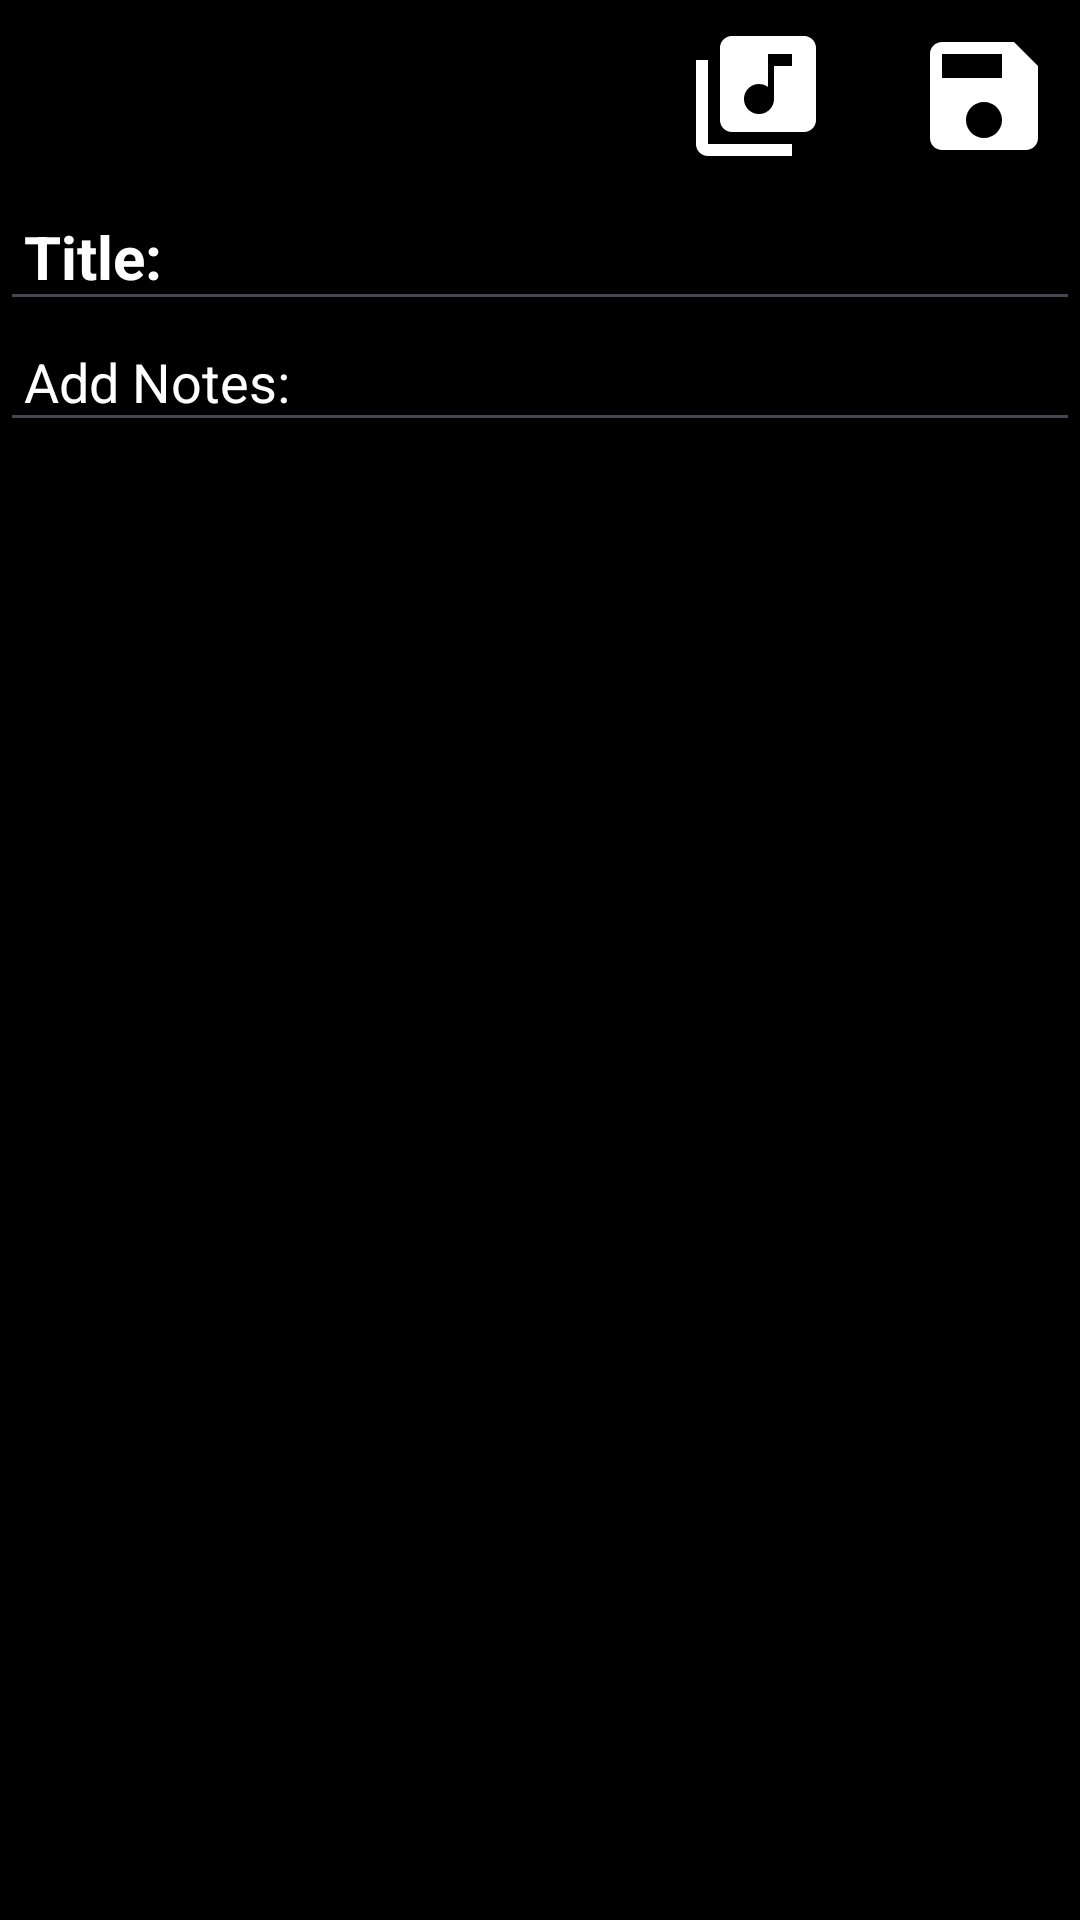

Point at icon controls on the screen. Image size 1080 × 1920, points as (x,y).
save: (984,96)
